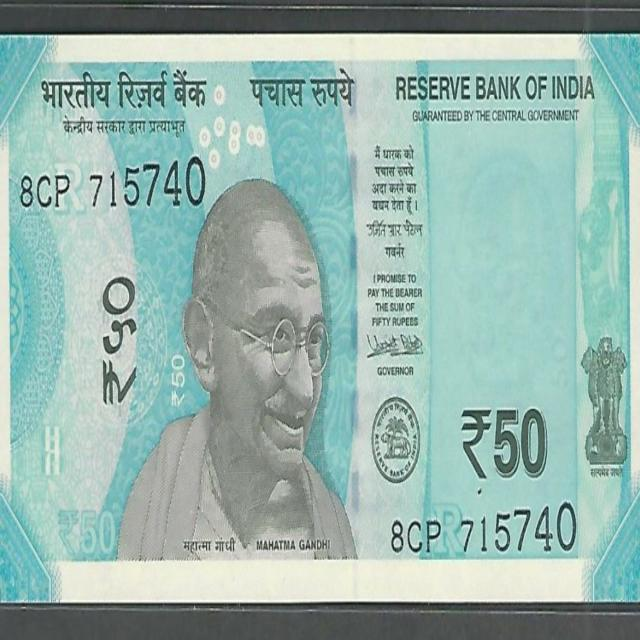50IndianRupees: (0, 36, 640, 602), (240, 29, 640, 604), (0, 32, 368, 601)
